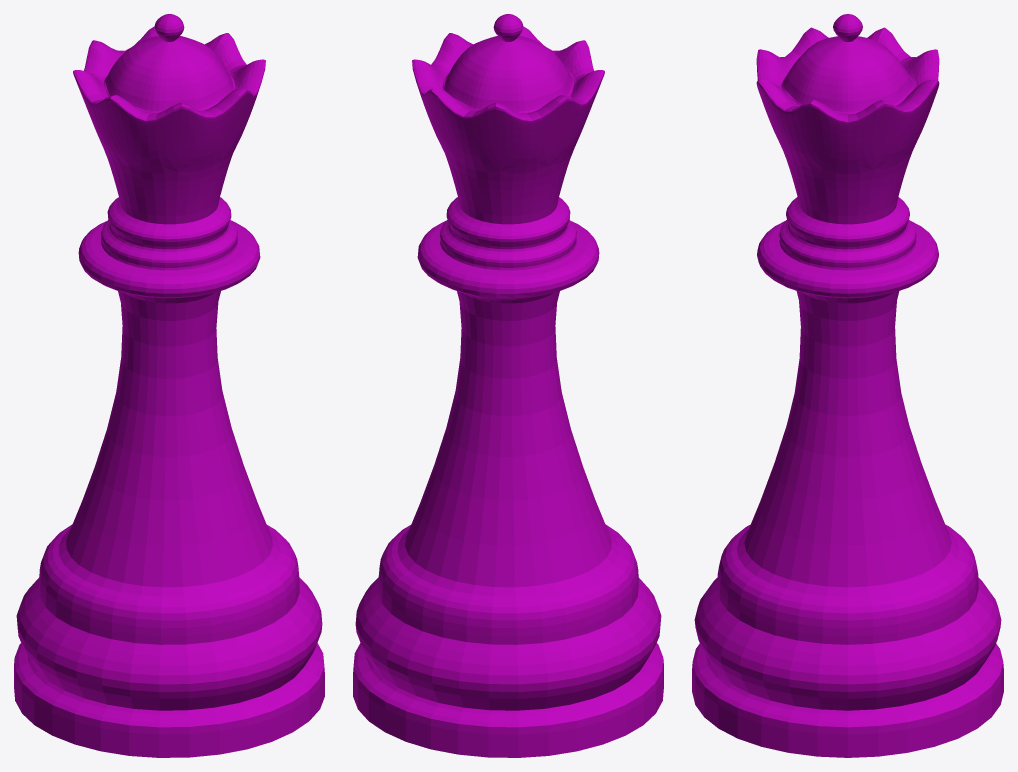
The model's file is queen_b.gltf.
3 views of the same model, side by side, from view 1: azimuth 30°, elevation 25°; view 2: azimuth 150°, elevation 25°; view 3: azimuth 270°, elevation 25° (orthographic).
Parts seen in each view (by area): view 1: Queen.001; view 2: Queen.001; view 3: Queen.001.
Part boxes in pixels (left/top/right/bottom): Queen.001: left=14, top=14, right=324, bottom=757; Queen.001: left=353, top=14, right=663, bottom=757; Queen.001: left=692, top=14, right=1003, bottom=757.
Bounding box in the file's own units: 0.6112 × 1.47 × 0.6112.
